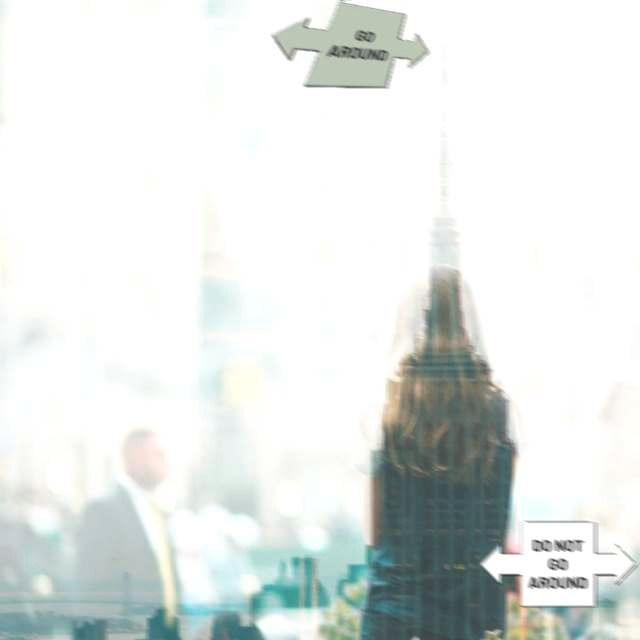DO_NOT_GO_AROUND: (480, 520, 637, 606)
GO_AROUND: (272, 0, 429, 87)
